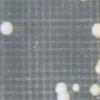white: (0, 19, 14, 39), (54, 81, 68, 95), (89, 82, 100, 98), (56, 91, 71, 100), (71, 81, 81, 94), (91, 22, 100, 34), (92, 63, 100, 75), (93, 27, 100, 39), (95, 58, 100, 65), (78, 0, 88, 3), (96, 94, 100, 100)
